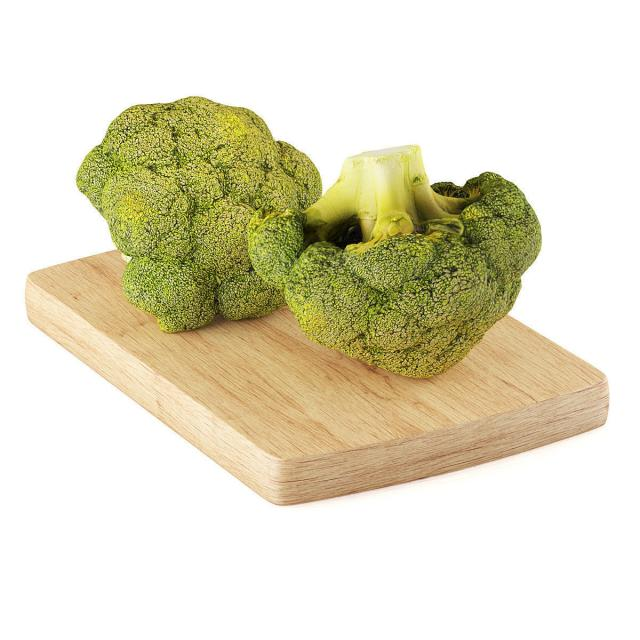broccoli: (247, 141, 541, 380), (73, 94, 339, 334)
